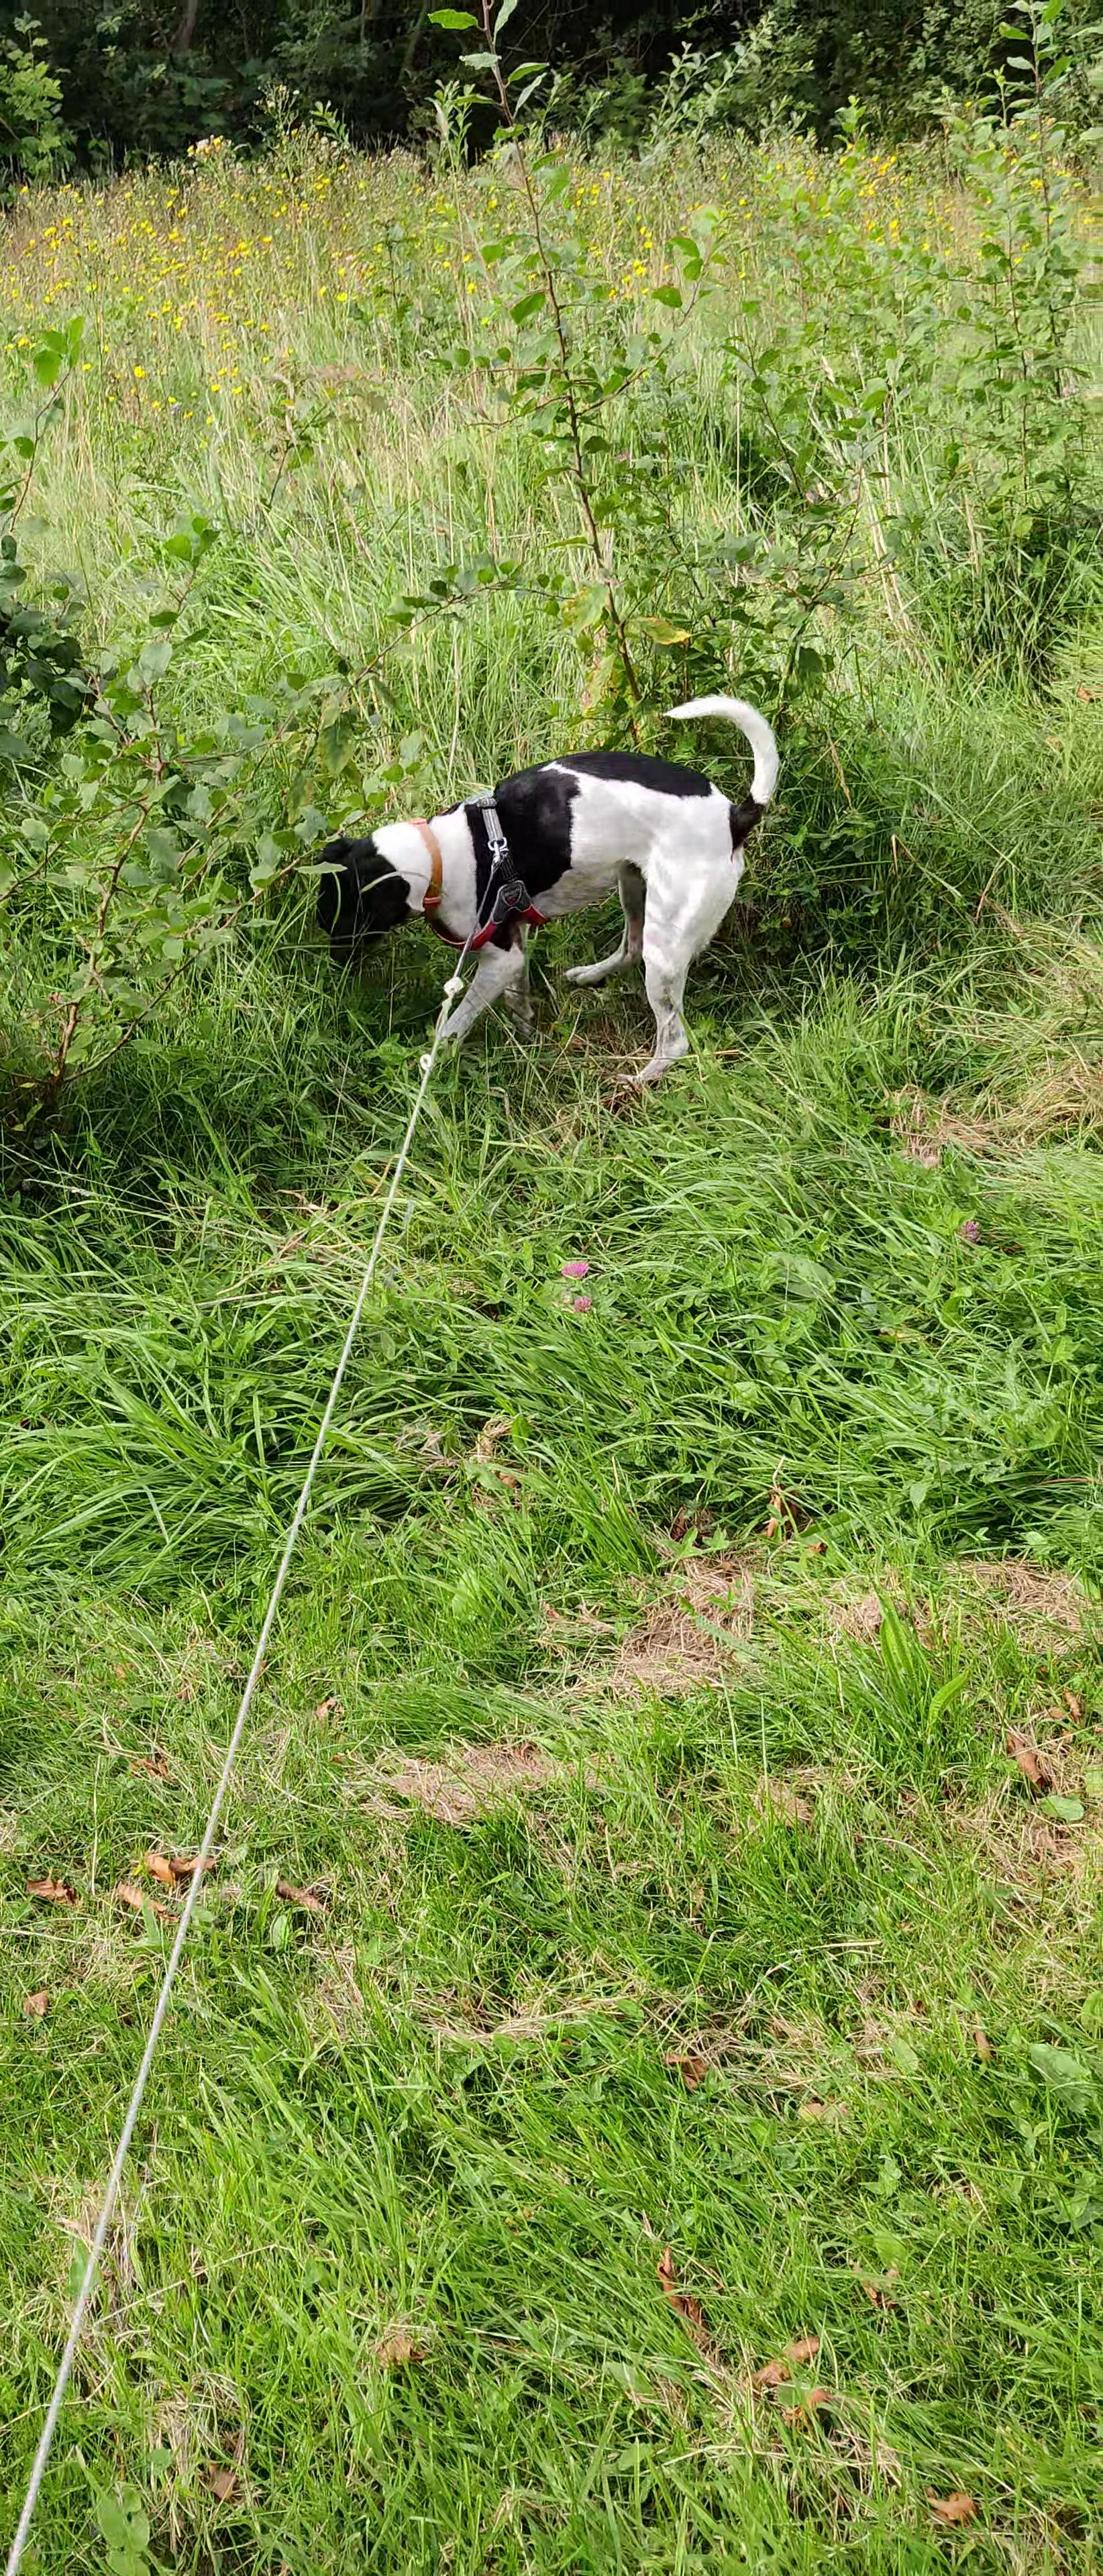Dog: (311, 687, 782, 1091)
